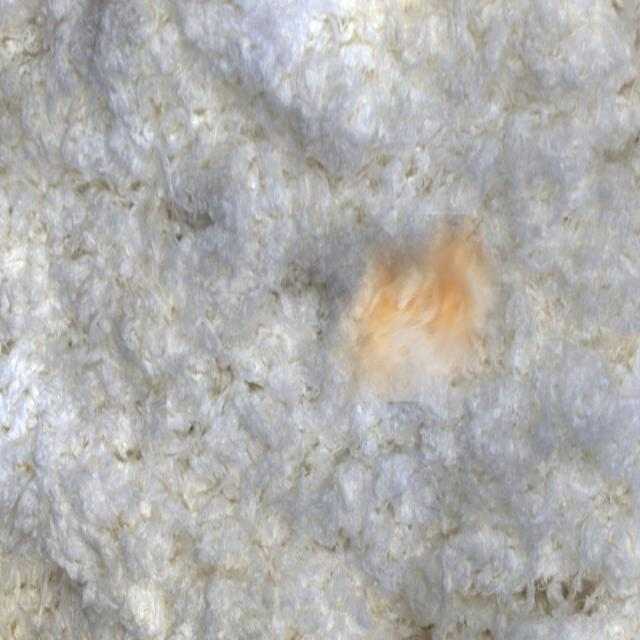dust: (325, 214, 501, 402)
